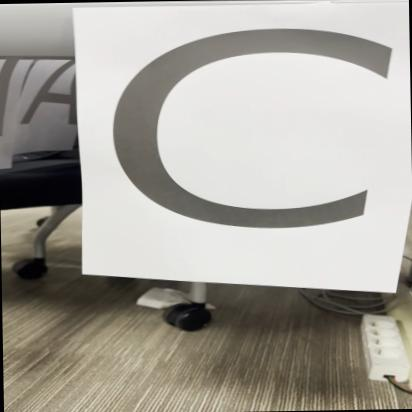seat: (76, 1, 412, 307)
